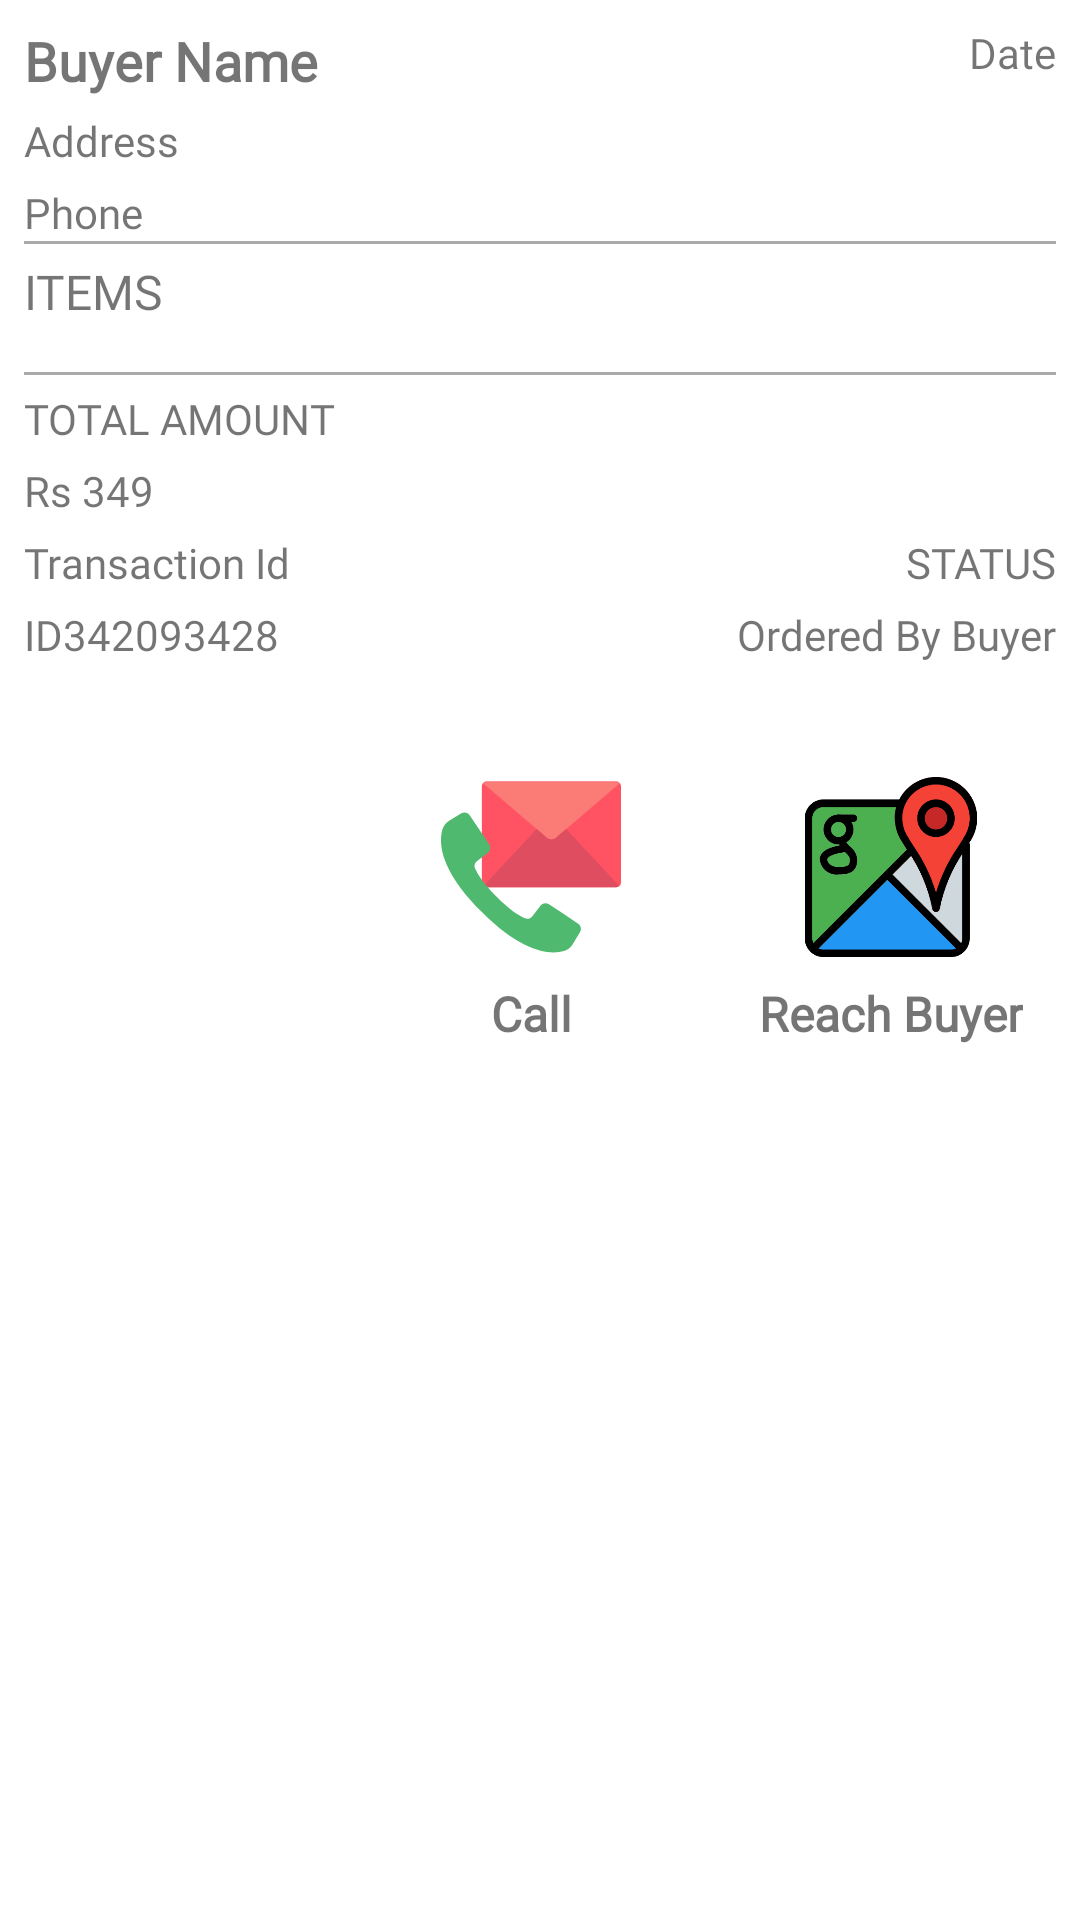

Icons on this 1080px x 1920px Android screen, each with the point to tap as [x,y]:
contact: [531,867]
